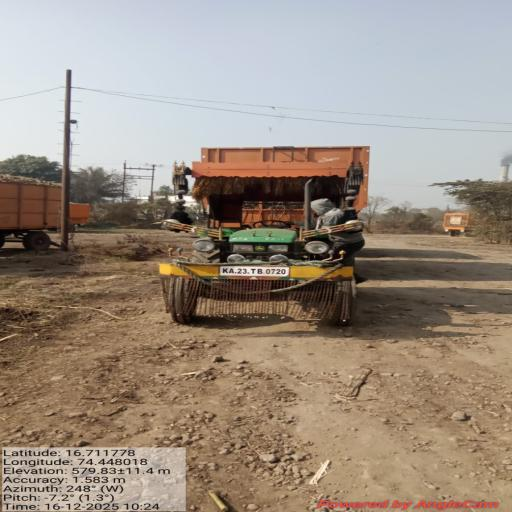number_plate: (220, 266, 290, 277)
